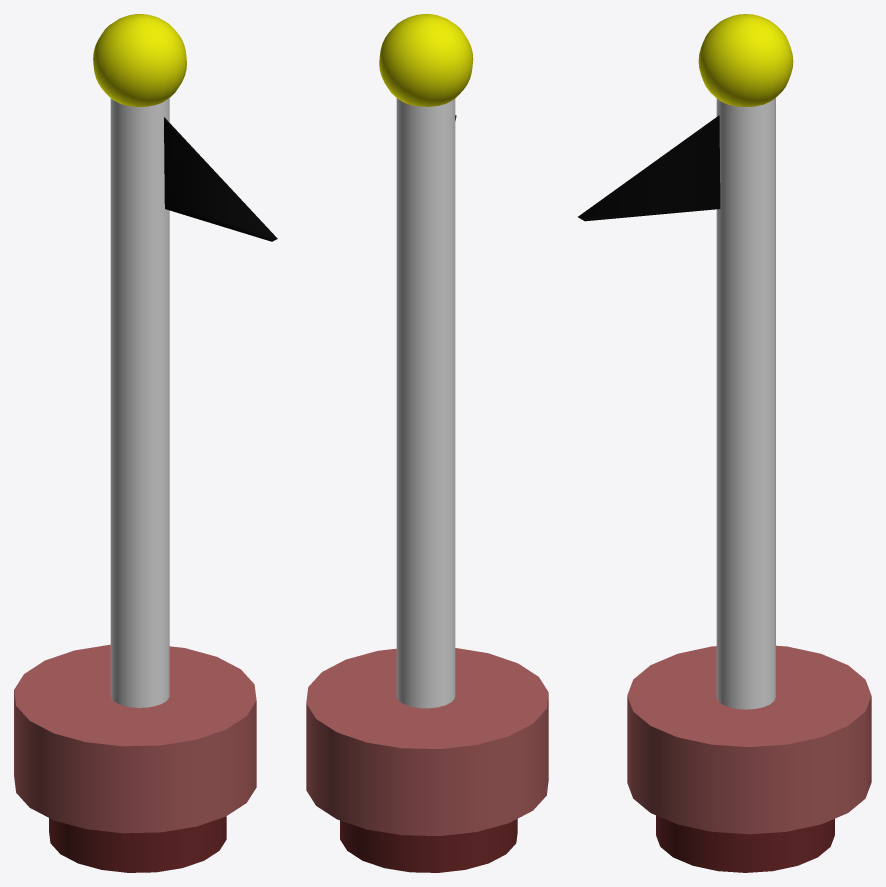
Rendered from goal.fbx.
3 views of the same model, side by side, from view 1: azimuth 30°, elevation 25°; view 2: azimuth 150°, elevation 25°; view 3: azimuth 270°, elevation 25° (orthographic).
Visible parts, largest first — view 1: pCylinder2, pCylinder3, pSphere1, pCylinder1, pCone2; view 2: pCylinder2, pCylinder3, pSphere1, pCylinder1; view 3: pCylinder2, pCylinder3, pCone2, pSphere1, pCylinder1.
Boxes of the visible parts, x1,y1,x2,y2 form: pCylinder2: (14,644,256,833); pCylinder3: (110,98,169,707); pSphere1: (93,14,186,106); pCylinder1: (49,816,226,872); pCone2: (164,117,277,241); pCylinder2: (306,648,548,835); pCylinder3: (396,98,455,708); pSphere1: (379,14,473,106); pCylinder1: (340,819,517,872); pCylinder2: (627,645,871,834); pCylinder3: (716,98,775,709); pCone2: (578,115,720,221); pSphere1: (698,14,793,106); pCylinder1: (656,815,834,872).
Bounding box in the file's own units: 3.88 × 14.32 × 4.67.
